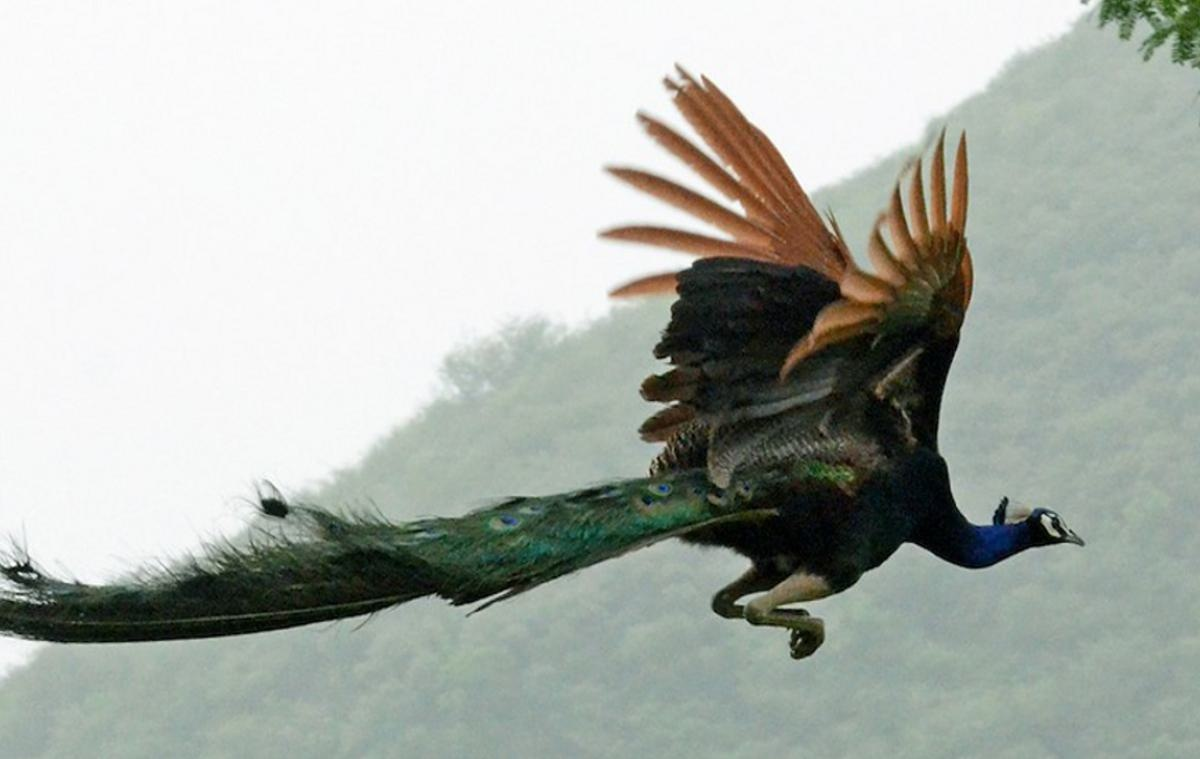peacock: (176, 153, 1099, 655)
